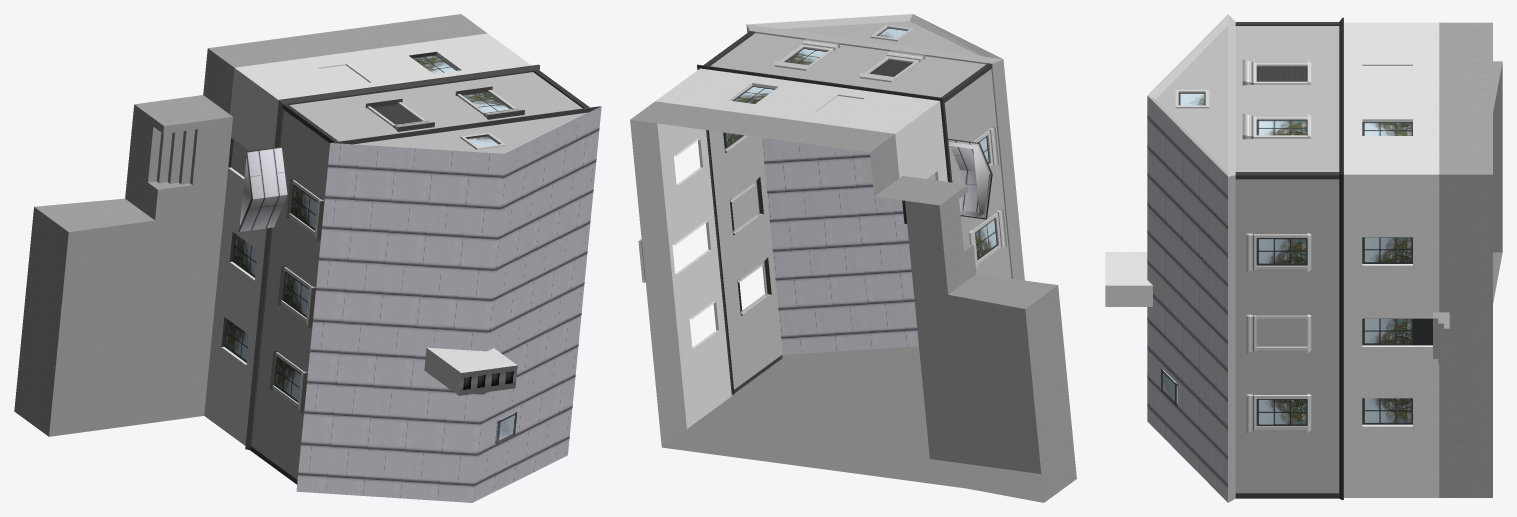
File: Aia_6_2.obj
The picture shows the model from 3 angles, left to right: view 1: azimuth 30°, elevation 25°; view 2: azimuth 150°, elevation 25°; view 3: azimuth 270°, elevation 25°; orthographic projection. The views are drawn at different scales.
Parts seen in each view (by area): view 1: Aia_6_2; view 2: Aia_6_2; view 3: Aia_6_2.
Boxes of the visible parts, x1,y1,x2,y2 form: Aia_6_2: (14,14,601,502); Aia_6_2: (630,14,1076,502); Aia_6_2: (1105,14,1502,502).
Size of the model in its own units: 15.74 by 12.25 by 11.84.
